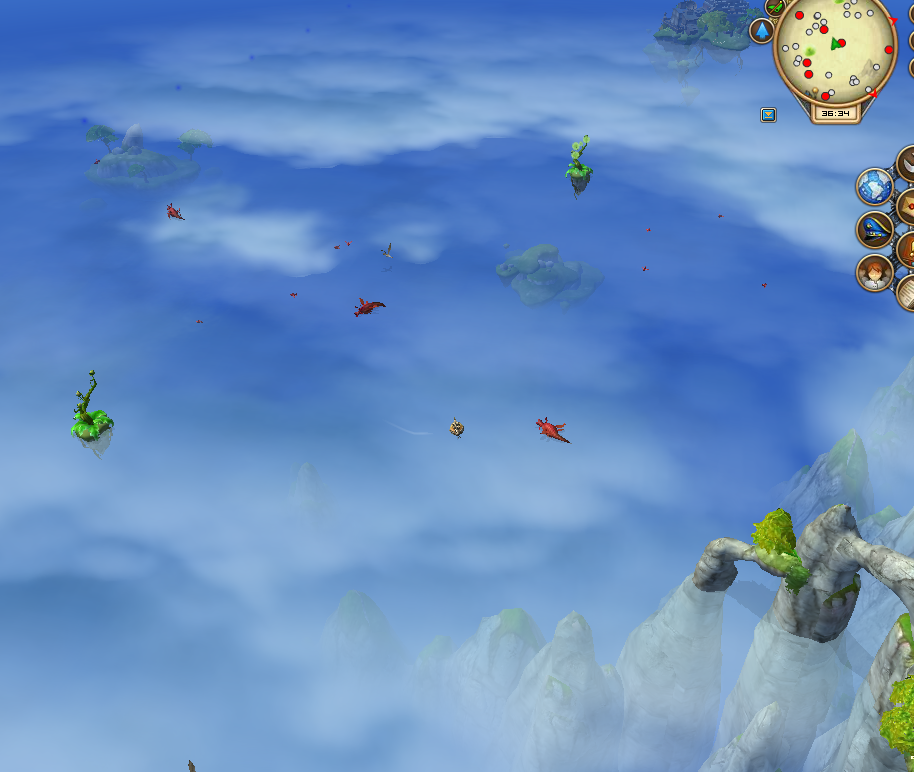dandelion-empty: (66, 365, 118, 451)
dandelion-full: (557, 129, 597, 192)
